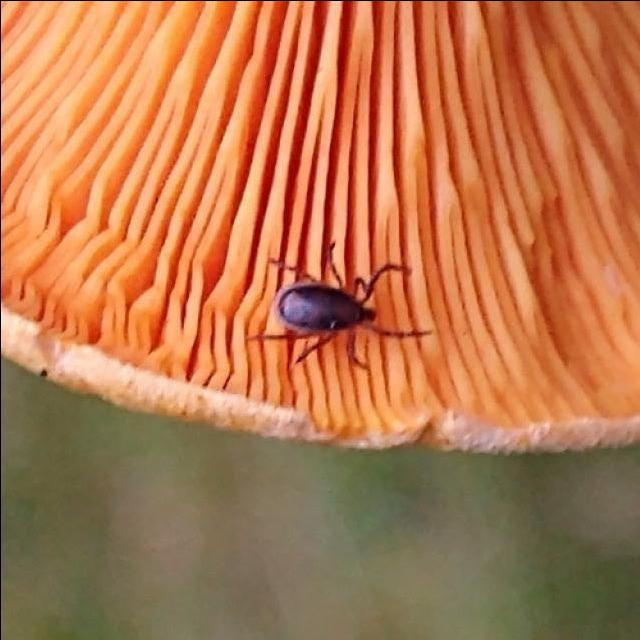Ixodes Ricinus-M: (262, 241, 430, 366)
